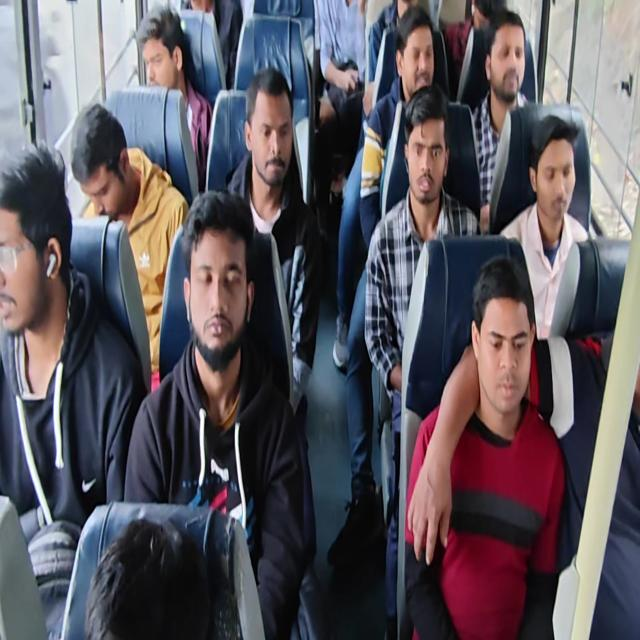person: (1, 2, 638, 638), (432, 113, 638, 573), (123, 188, 307, 638), (0, 142, 148, 638), (363, 84, 482, 637), (404, 254, 566, 638), (328, 3, 438, 564), (224, 67, 321, 421), (70, 102, 190, 380), (499, 114, 589, 340), (359, 5, 436, 248), (84, 516, 212, 639), (136, 5, 212, 191), (470, 9, 531, 232), (316, 0, 368, 126)
